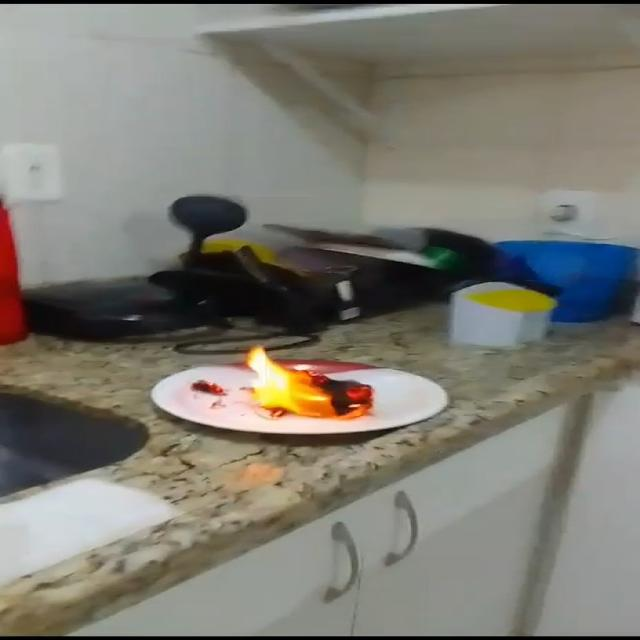fogo-ypXI: (242, 342, 374, 422)
